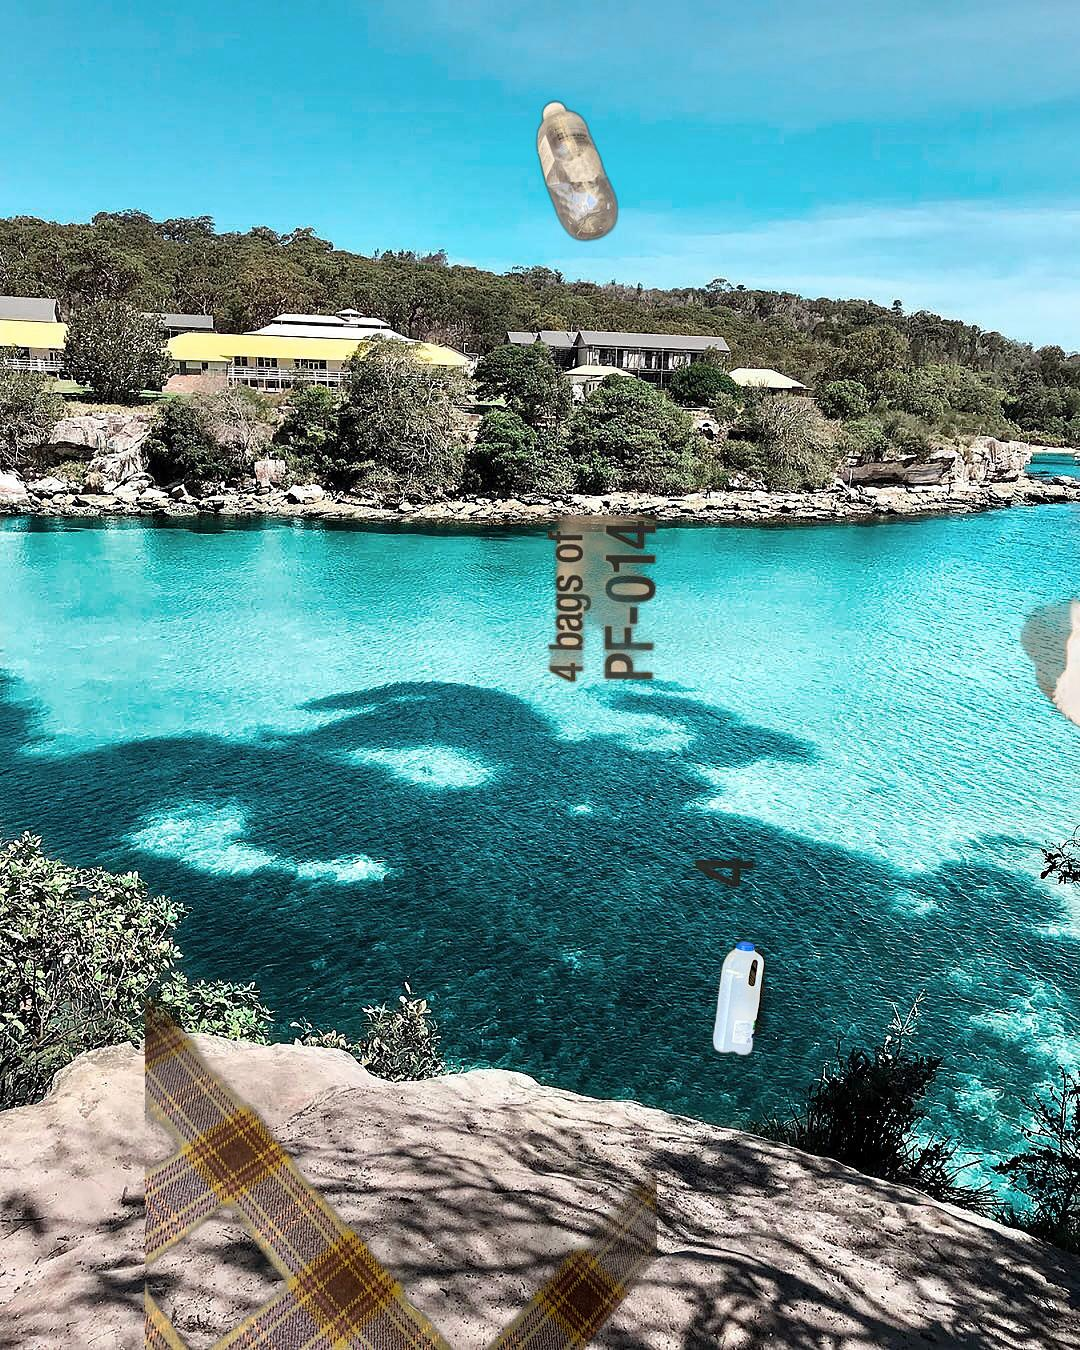glass: (145, 865, 657, 1350)
plastic-bottles: (532, 96, 622, 246), (708, 927, 775, 1062)
trash: (1015, 569, 1080, 747)
trashbox-cardboard: (408, 515, 758, 899)
